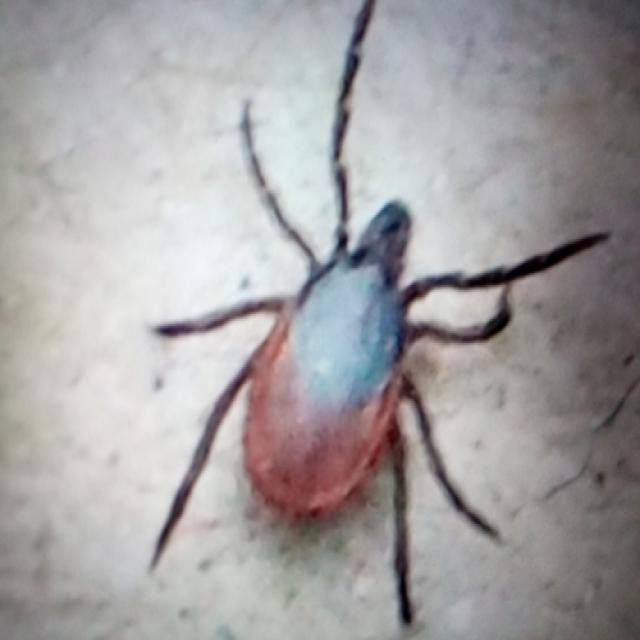Ixodes Ricinus-F: (151, 0, 609, 630)
